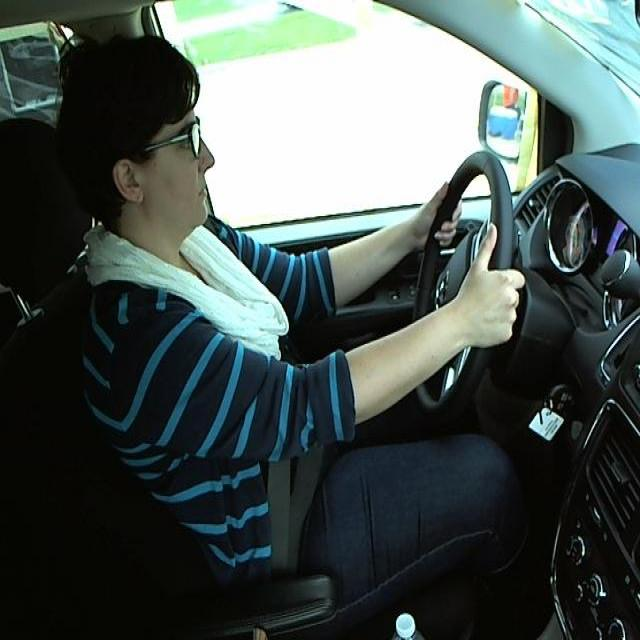without_using_phone: (43, 24, 253, 271)
